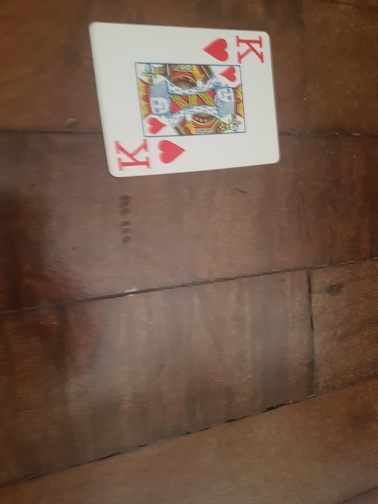king: (89, 22, 283, 178)
